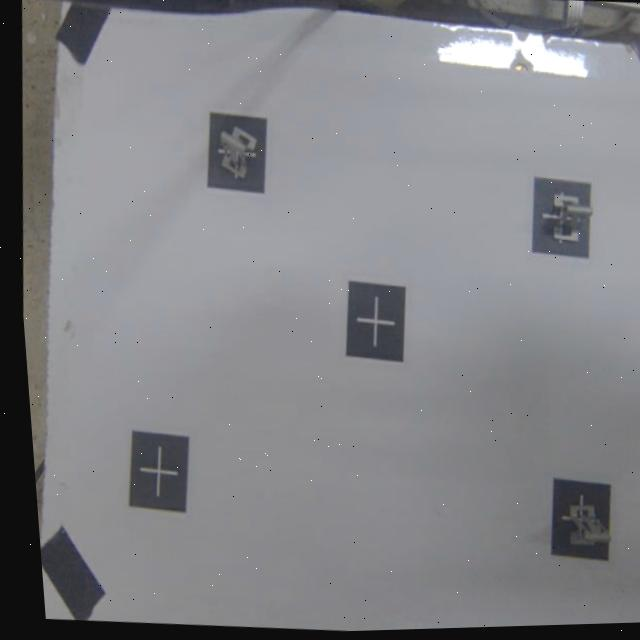pick1: (527, 177, 595, 257)
pick2: (204, 111, 272, 194)
pick4: (539, 479, 615, 565)
